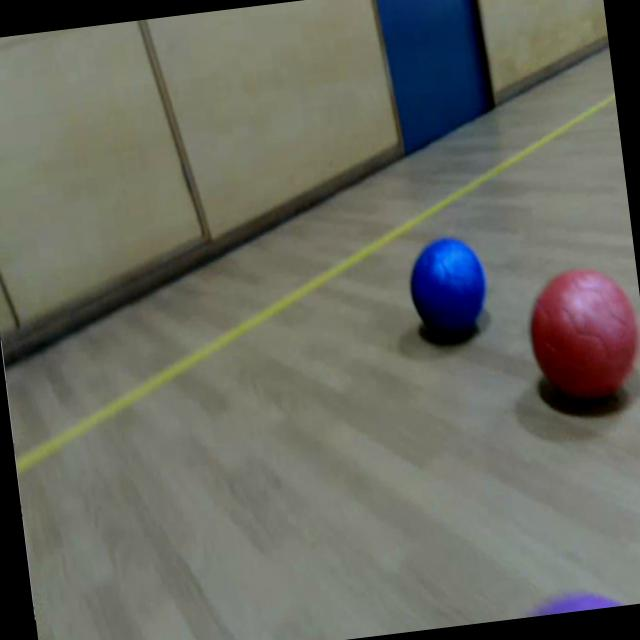blue_ball: (406, 232, 490, 336)
red_ball: (523, 260, 640, 407)
